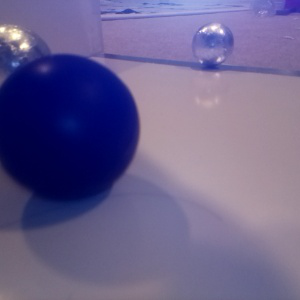alive_ball: (1, 23, 54, 90), (192, 23, 233, 67)
dead_ball: (1, 55, 139, 199)
